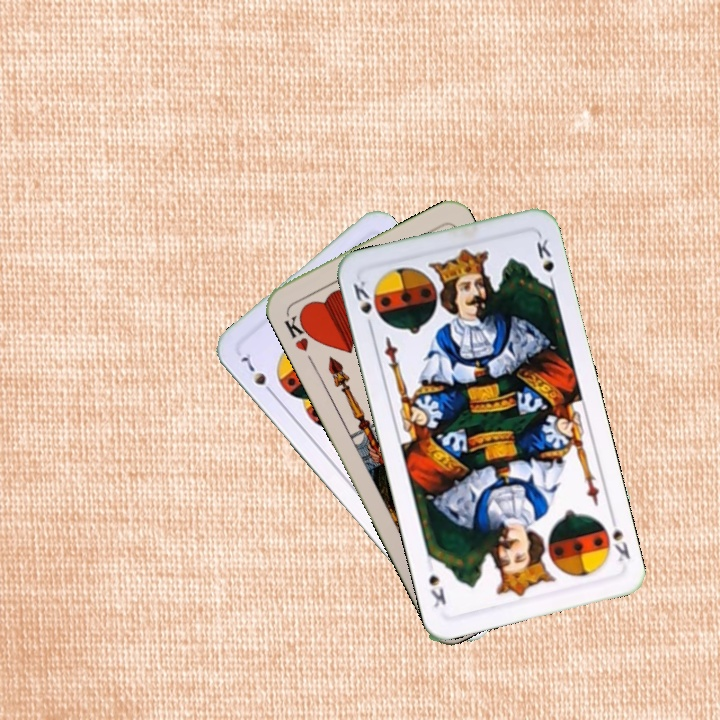HK: (280, 308, 317, 354)
S7: (236, 349, 278, 399)
SK: (349, 276, 376, 333), (605, 511, 633, 564)
